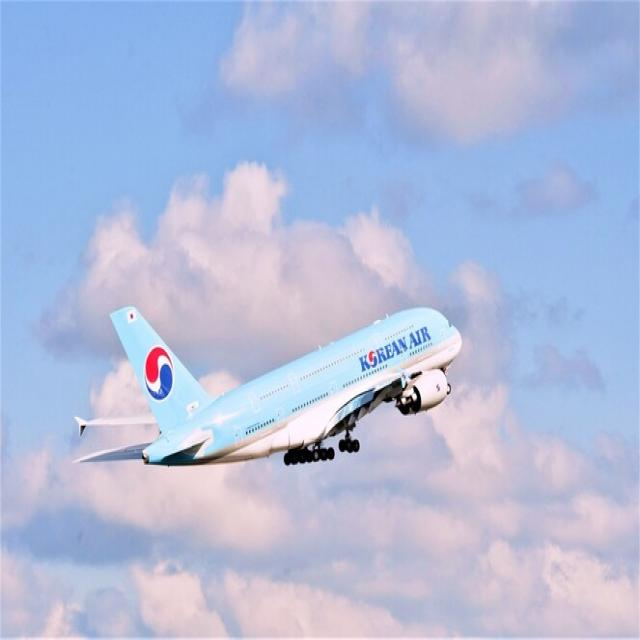A380: (77, 300, 466, 460)
